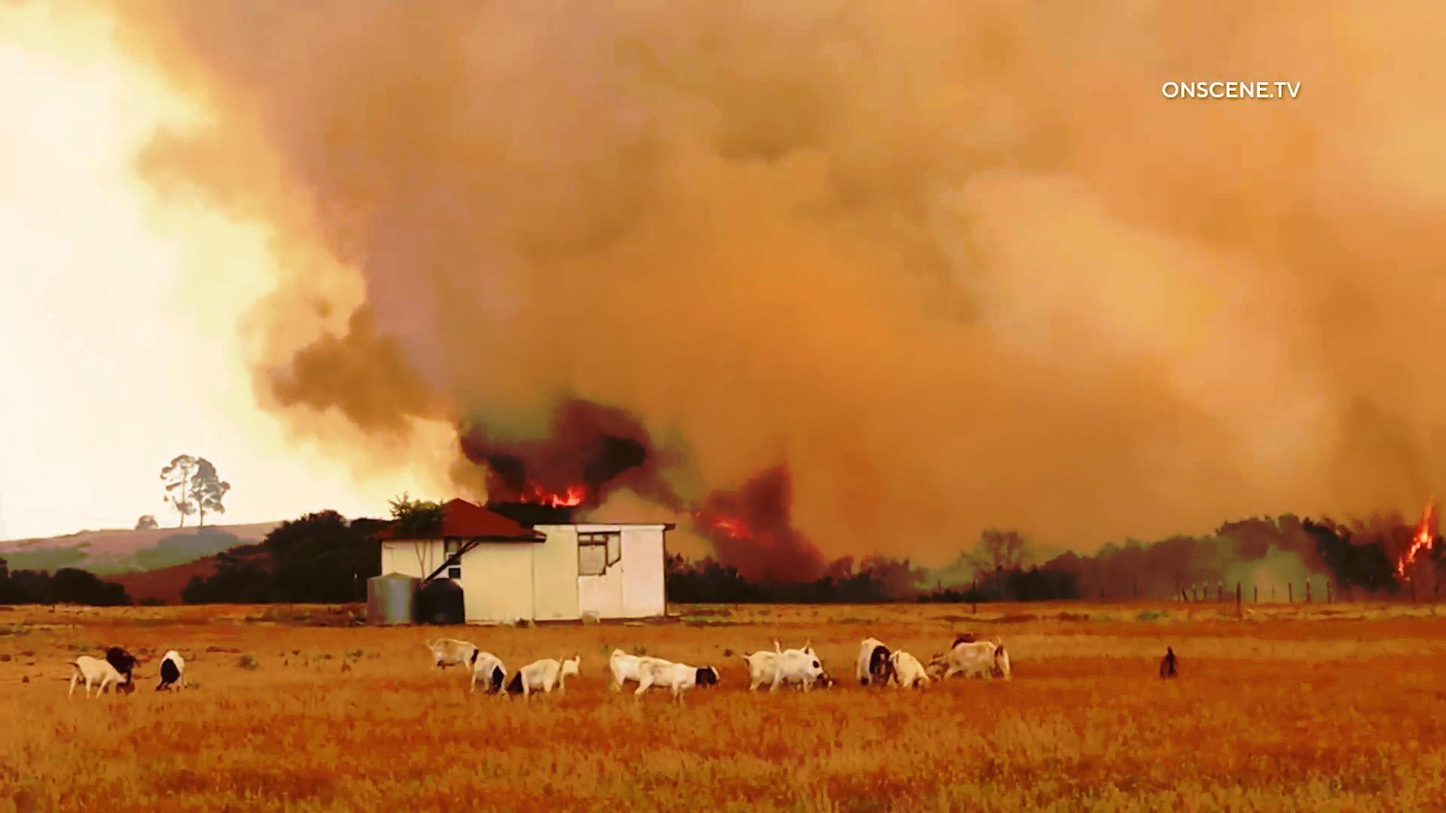fire: (1380, 505, 1446, 577), (514, 471, 599, 515)
smoke: (709, 93, 1389, 432)
